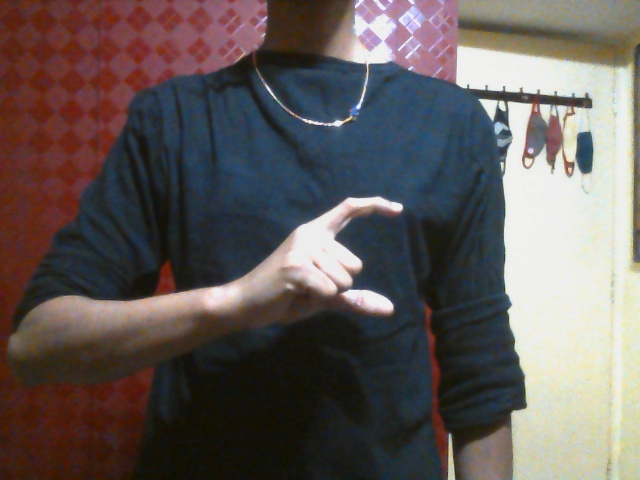C: (251, 196, 405, 331)
